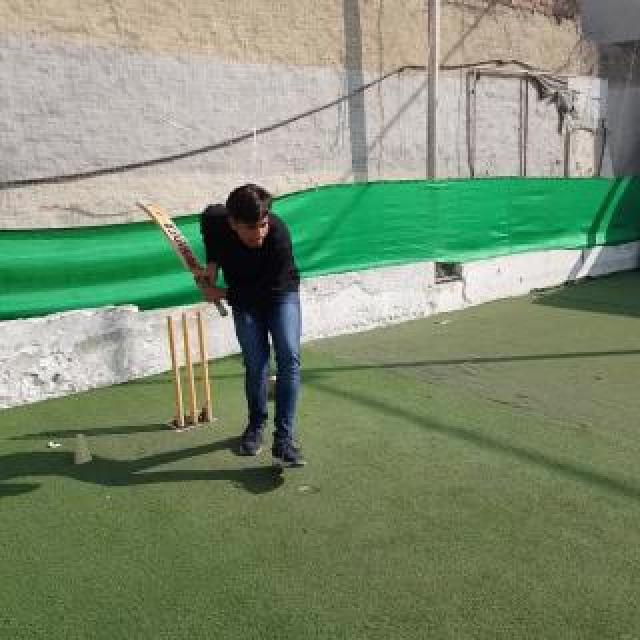bat: (134, 200, 228, 316)
